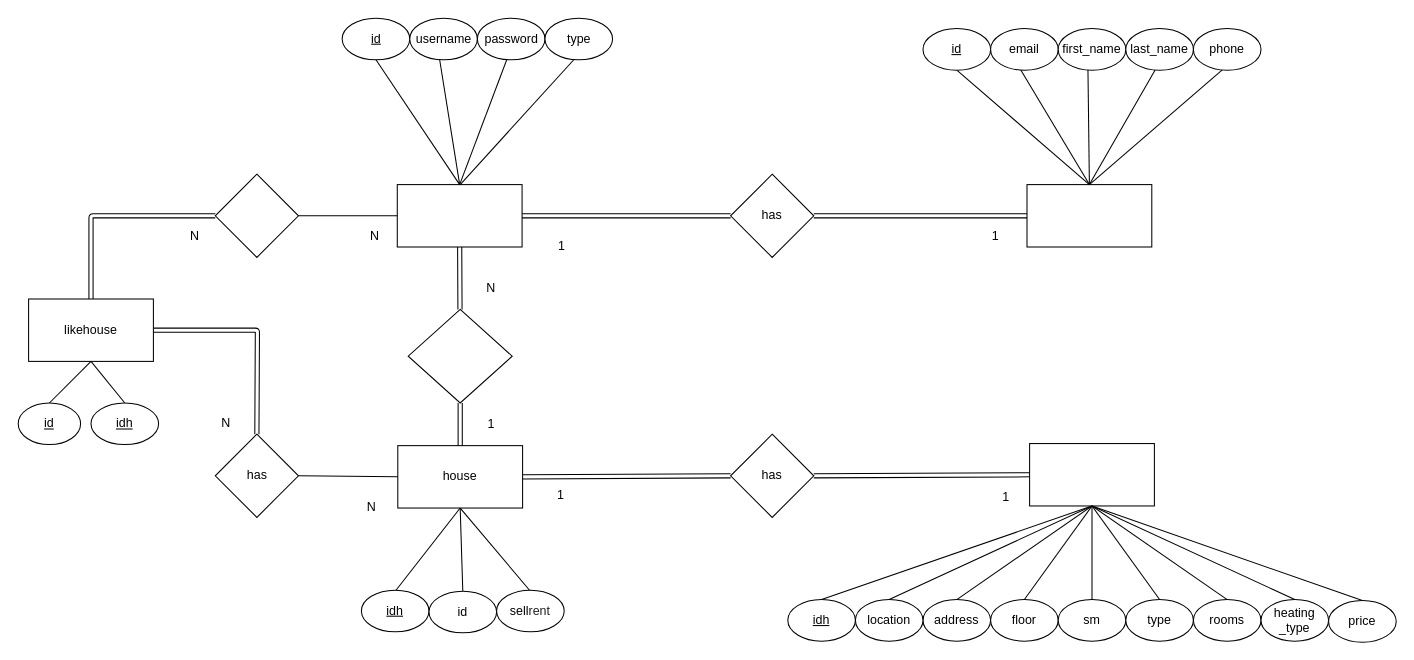
The diagram is 1414 pixels wide and 660 high, and some of its shapes have lost their labels. Here are the shapes that lost their labels. From the top down, the box of each, then its label:
(214, 173, 298, 257): likes
(396, 184, 522, 247): users_login_info
(1026, 184, 1152, 247): users_personal_info
(407, 308, 512, 403): puts for sell or rent
(1029, 443, 1154, 506): house_info
